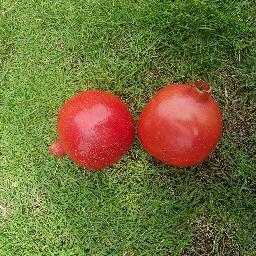Good_pomegranate: (52, 88, 134, 172), (145, 79, 221, 169)
